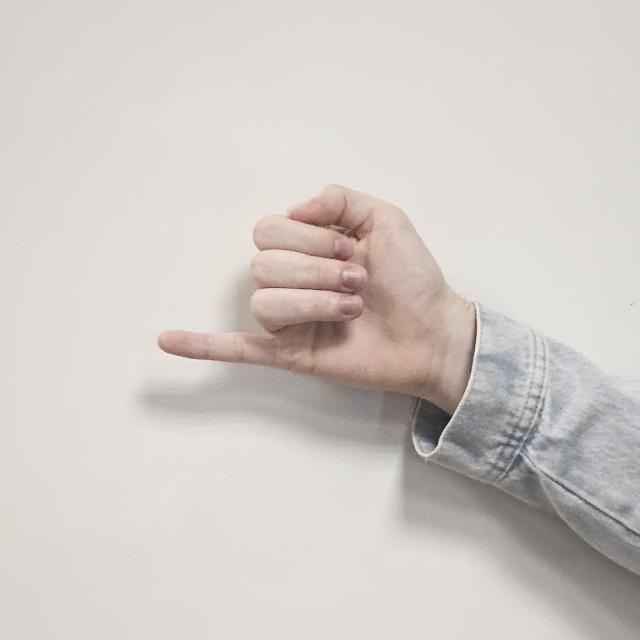Esquerda: (138, 159, 486, 433)
